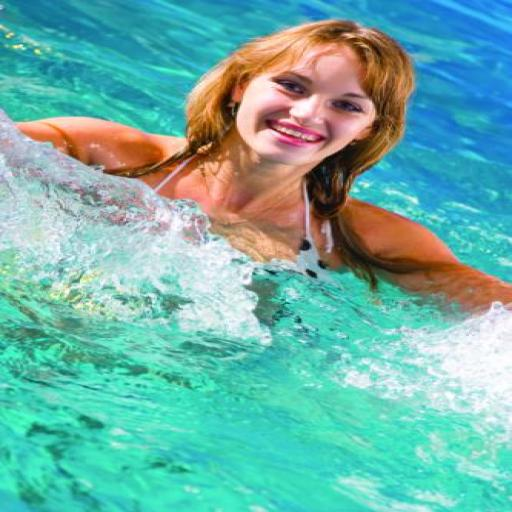swimming: (0, 17, 510, 338)
